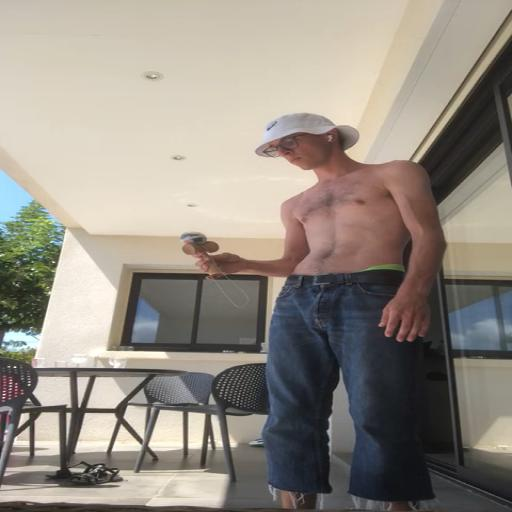kendama_ball: (179, 231, 207, 246)
